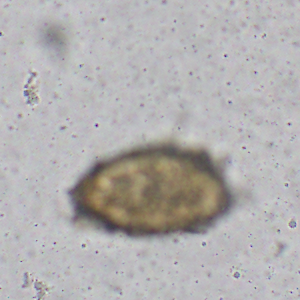Fasciola_hepatica_egg: (71, 142, 233, 235)
